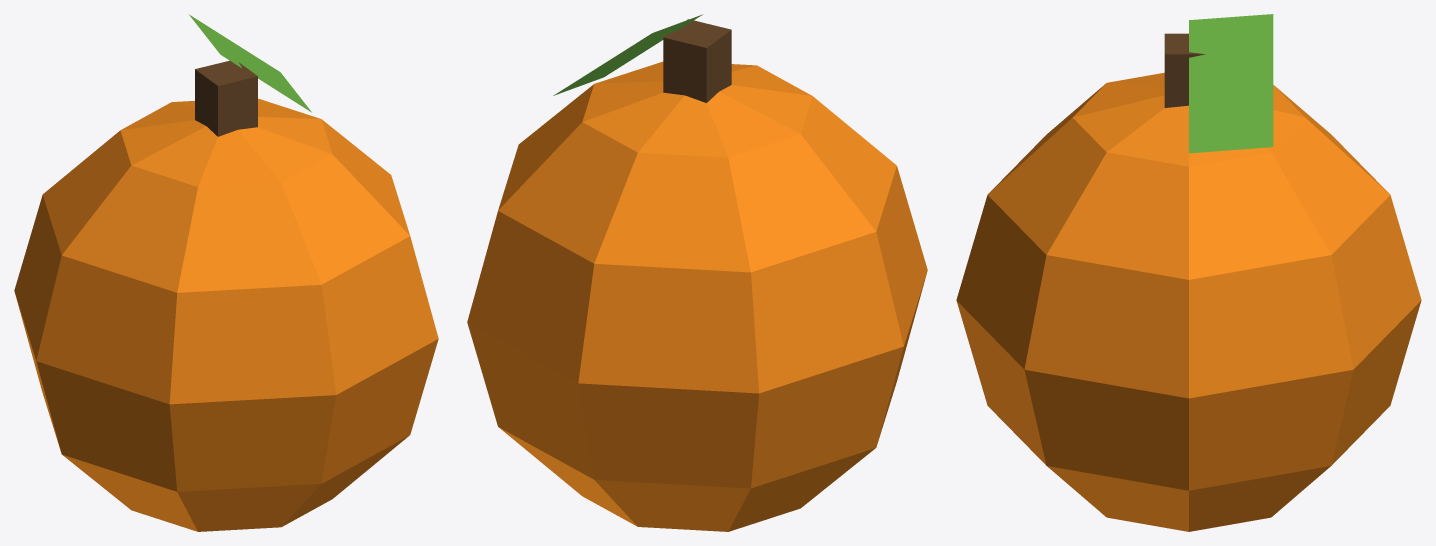
File: orange.obj
3 views of the same model, side by side, from view 1: azimuth 30°, elevation 25°; view 2: azimuth 150°, elevation 25°; view 3: azimuth 270°, elevation 25° (orthographic). The views are drawn at different scales.
Parts seen in each view (by area): view 1: fruit; view 2: fruit; view 3: fruit.
Boxes of the visible parts, box(x1,y1,x2,y2) form: fruit: box(14, 14, 438, 531); fruit: box(467, 14, 927, 531); fruit: box(956, 14, 1421, 531).
Bounding box in the file's own units: 0.19 × 0.2244 × 0.19.
